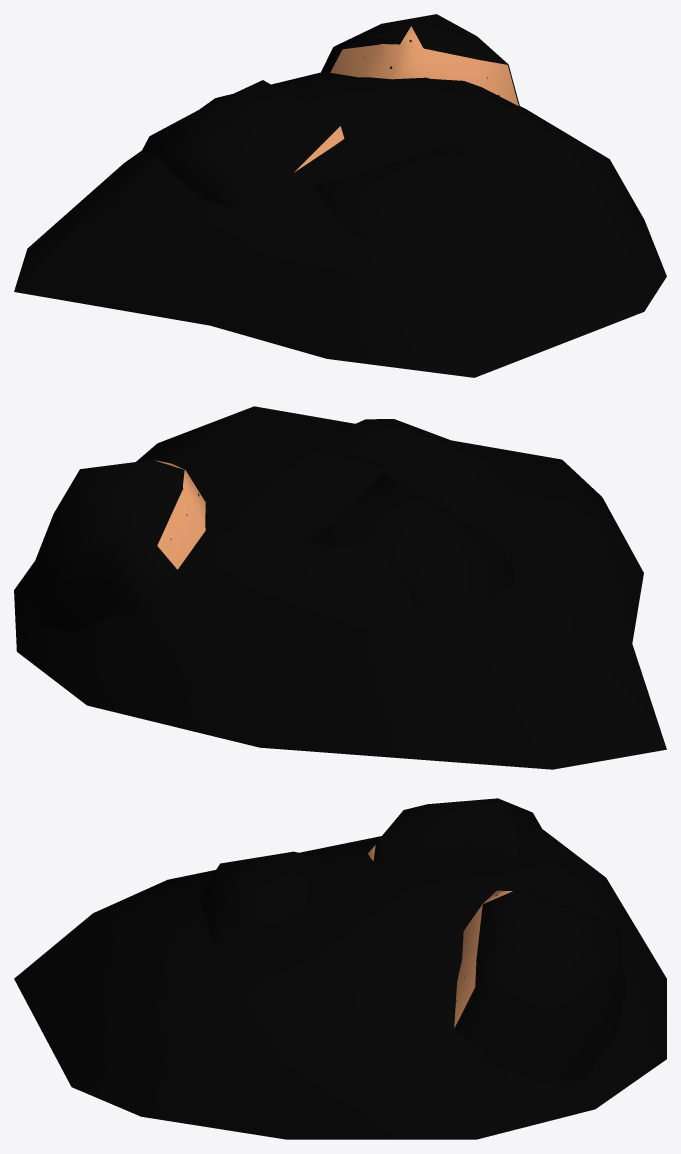
Rendered from pm-crystal-base.glb.
The picture shows the model from 3 angles, top to bottom: view 1: azimuth 30°, elevation 25°; view 2: azimuth 150°, elevation 25°; view 3: azimuth 270°, elevation 25°; orthographic projection. The views are drawn at different scales.
Visible parts, largest first — view 1: Crystal_Base; view 2: Crystal_Base; view 3: Crystal_Base.
Part boxes in pixels (<box>): Crystal_Base: <box>14,14,666,377</box>; Crystal_Base: <box>14,406,666,769</box>; Crystal_Base: <box>14,798,666,1139</box>.
Bounding box in the file's own units: 5.33 × 1.43 × 4.84.
2 materials, 1 textured.
